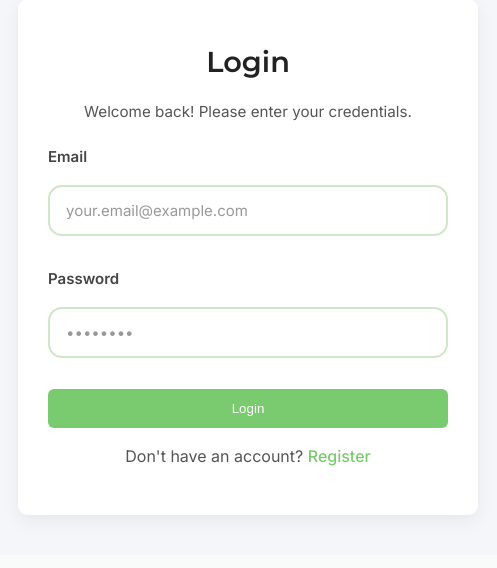
Test: Login Component › shows error message on failed login
Type "test@example.com" into the field labelled "Email" at [248, 210], box [48,185,448,236]
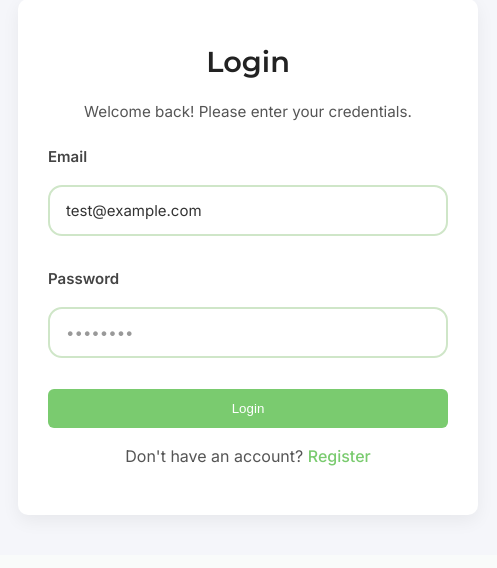
Type "wrongpassword" into the password field labelled "Password" at [248, 332], box [48,307,448,358]
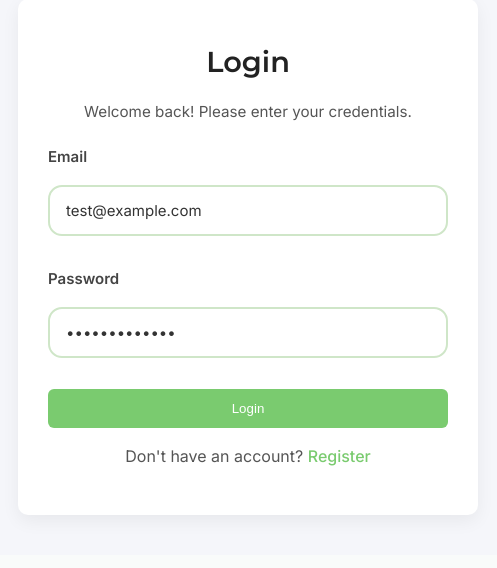
Submit the form from the button "Login", box [48,389,448,428]
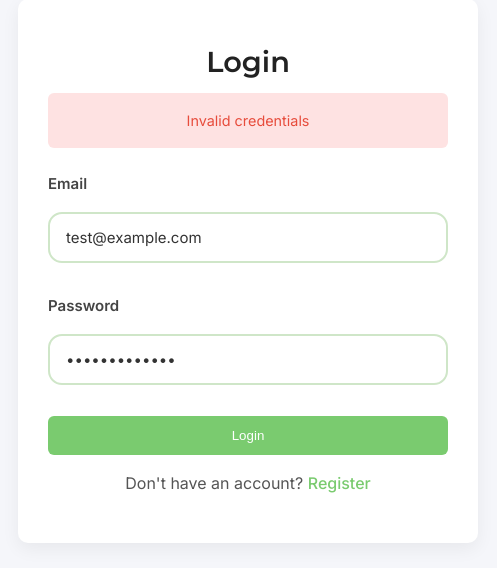
Expected: the text "Invalid credentials" is shown, [48,93,448,148]
